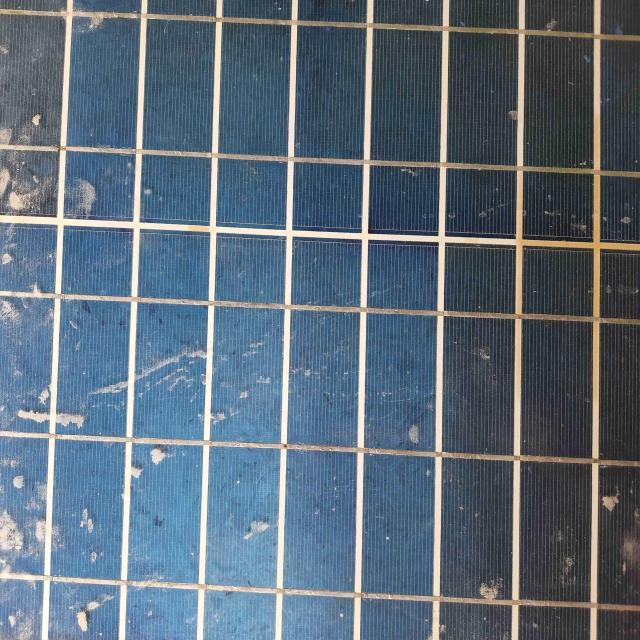dust-solar-panel: (0, 0, 640, 638)
